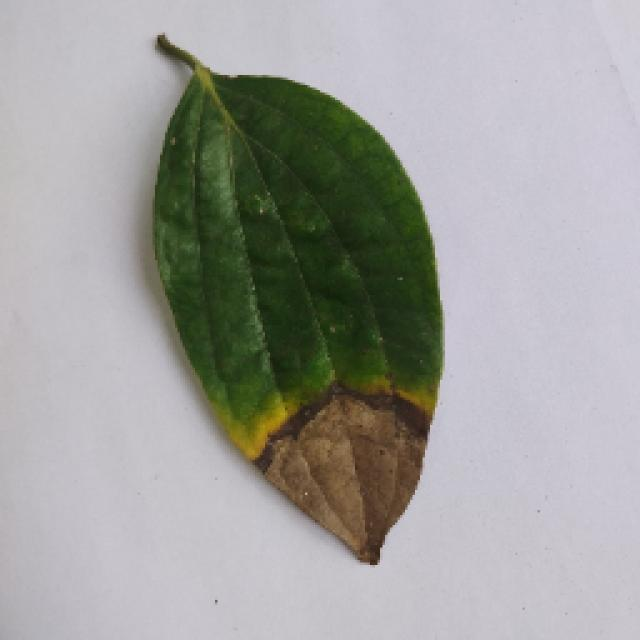footrot: (142, 40, 442, 570)
